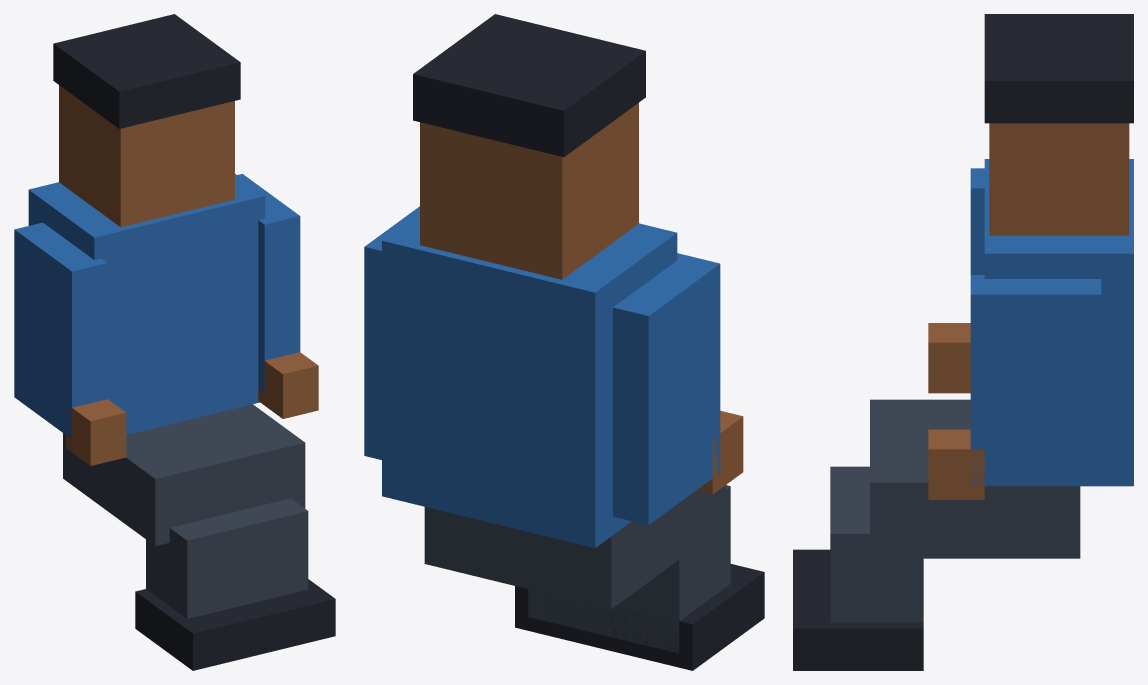
File: spectatorB.glb
The picture shows the model from 3 angles, left to right: view 1: azimuth 30°, elevation 25°; view 2: azimuth 150°, elevation 25°; view 3: azimuth 270°, elevation 25°; orthographic projection. The views are drawn at different scales.
Parts seen in each view (by area): view 1: spectatorB_blue, spectatorB_steelDark, spectatorB_black, spectatorB_skinDark; view 2: spectatorB_blue, spectatorB_black, spectatorB_skinDark, spectatorB_steelDark; view 3: spectatorB_blue, spectatorB_steelDark, spectatorB_black, spectatorB_skinDark.
Part boxes in pixels (left/top/right/bottom): spectatorB_blue: left=14, top=174, right=300, bottom=438; spectatorB_steelDark: left=63, top=404, right=308, bottom=618; spectatorB_black: left=53, top=14, right=335, bottom=670; spectatorB_skinDark: left=59, top=85, right=318, bottom=465; spectatorB_blue: left=364, top=206, right=720, bottom=548; spectatorB_black: left=413, top=14, right=764, bottom=670; spectatorB_skinDark: left=420, top=103, right=743, bottom=494; spectatorB_steelDark: left=424, top=484, right=730, bottom=653; spectatorB_blue: left=970, top=159, right=1133, bottom=486; spectatorB_steelDark: left=830, top=399, right=1080, bottom=622; spectatorB_black: left=793, top=14, right=1133, bottom=670; spectatorB_skinDark: left=928, top=123, right=1129, bottom=499.
Size of the model in its own units: 0.64 by 1.38 by 0.73.
